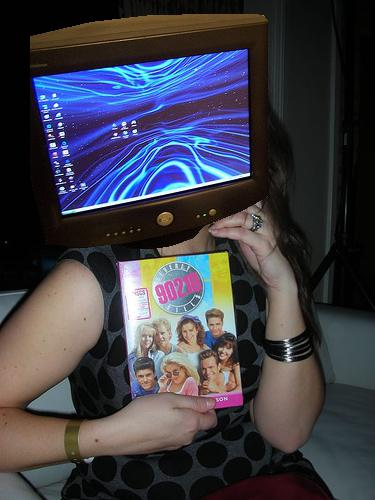tampered: (31, 15, 268, 249)
